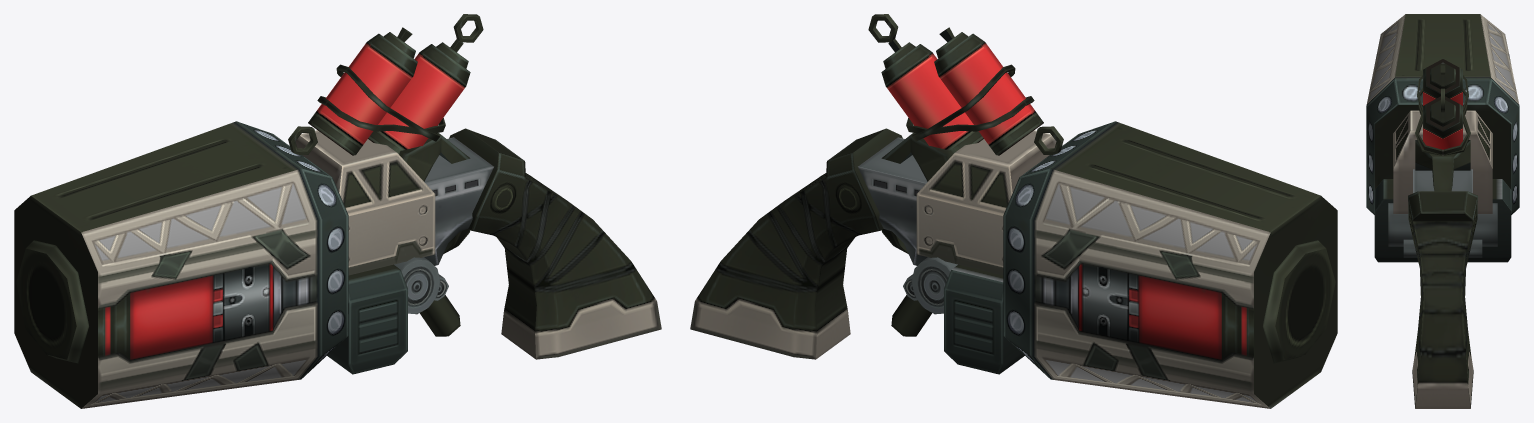
The picture shows the model from 3 angles, left to right: view 1: azimuth 30°, elevation 25°; view 2: azimuth 150°, elevation 25°; view 3: azimuth 270°, elevation 25°; orthographic projection. The views are drawn at different scales.
Parts seen in each view (by area): view 1: 枪手-手枪-粉-4; view 2: 枪手-手枪-粉-4; view 3: 枪手-手枪-粉-4.
Boxes of the visible parts, left/top/right/bottom form: 枪手-手枪-粉-4: left=14, top=14, right=661, bottom=408; 枪手-手枪-粉-4: left=690, top=14, right=1337, bottom=408; 枪手-手枪-粉-4: left=1366, top=14, right=1519, bottom=408.
Bounding box in the file's own units: 0.8794 × 0.488 × 0.263.
